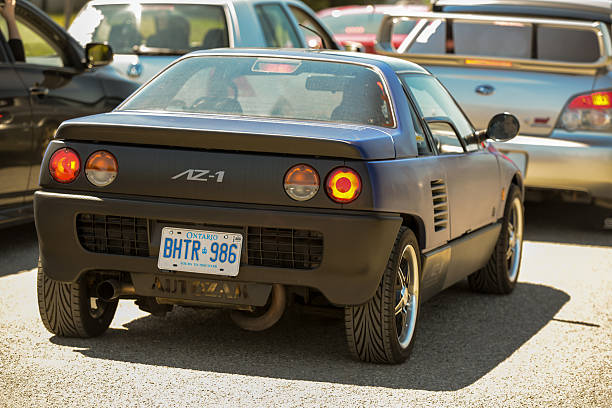licence: (157, 224, 243, 276)
